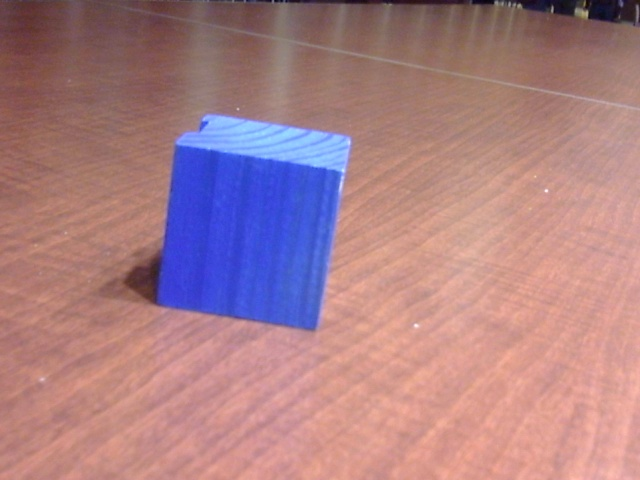BlueBlock: (157, 114, 351, 331)
